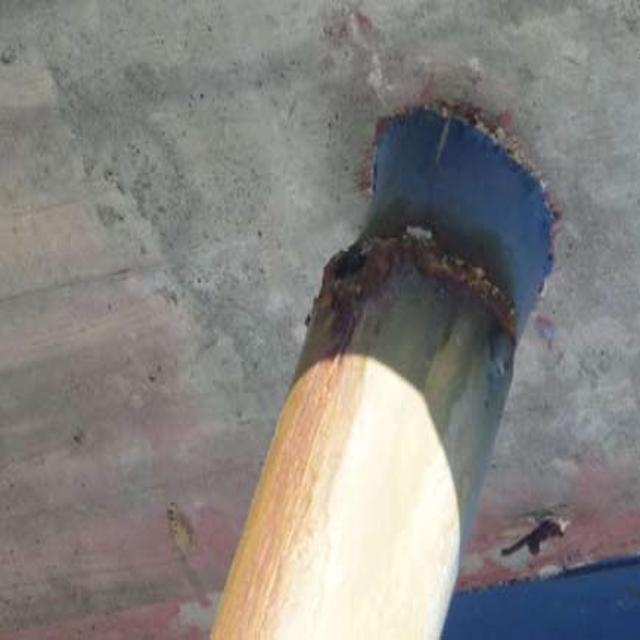corrosion: (277, 193, 510, 377)
